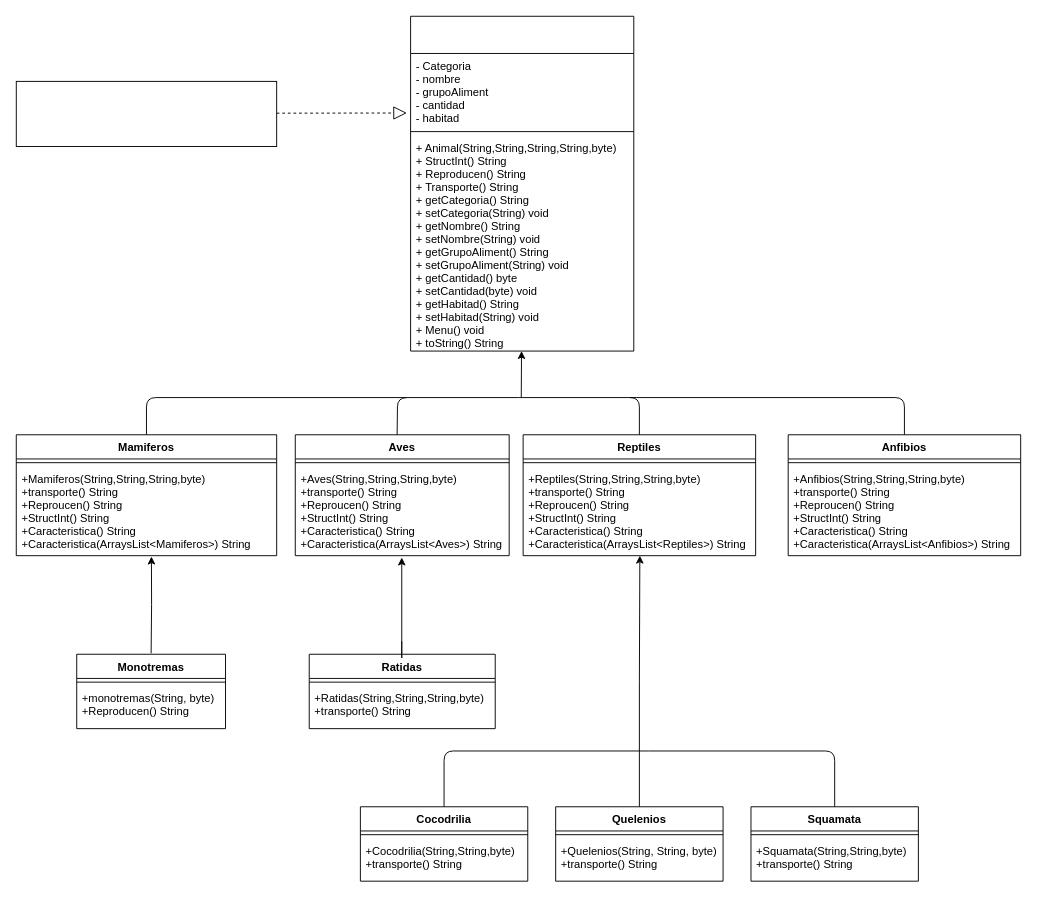
This 1037x900 diagram has some shape labels left out. The box of each missing label's shape, as (x1, y1, x2, y2) in pixels:
<<Interface>> Movilizar + transporte() String: (15, 80, 277, 146)
Abstracta Animal: (410, 15, 634, 351)
